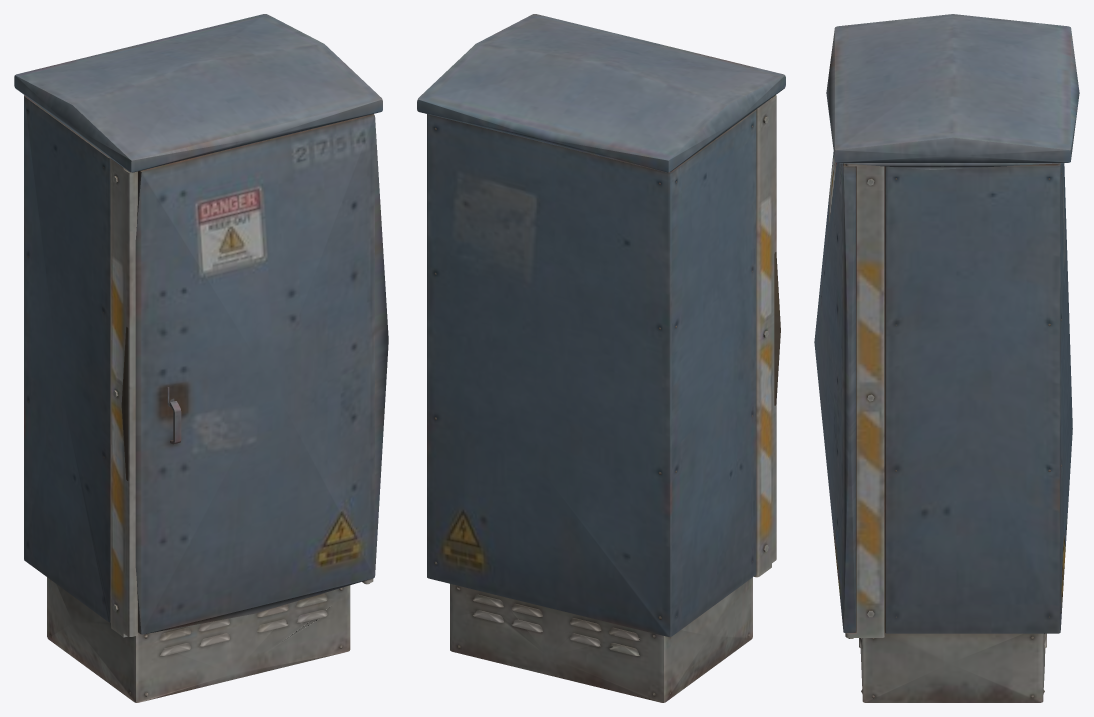
The model's file is ph_utilbox.glb.
3 renders of one model, left to right at view 1: azimuth 30°, elevation 25°; view 2: azimuth 150°, elevation 25°; view 3: azimuth 270°, elevation 25°, orthographic.
Size of the model in its own units: 0.5591 by 1.16 by 0.4677.
1 material, 1 textured.
